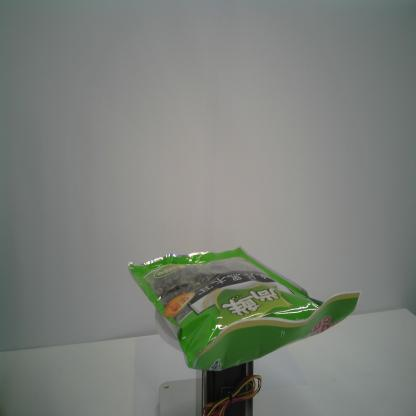Dried Food: (126, 242, 362, 374)
